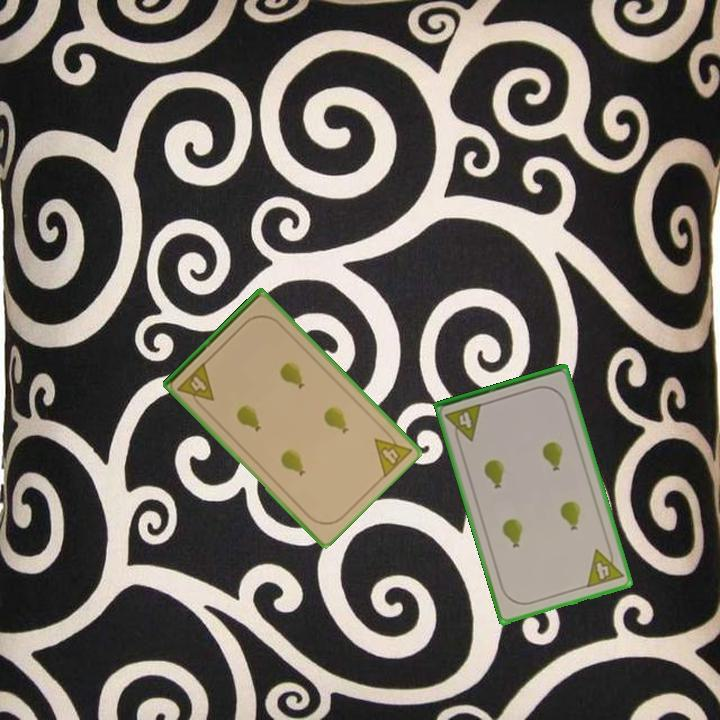4p: (371, 424, 415, 480), (174, 359, 217, 412), (583, 542, 626, 591), (442, 400, 485, 447)
